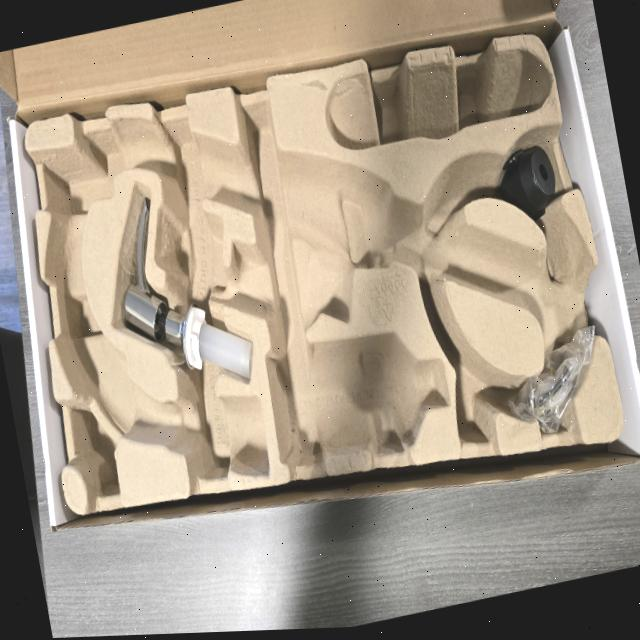1m: (47, 114, 605, 474)
2: (122, 198, 250, 384)
3m: (266, 331, 449, 464)
4m: (327, 47, 549, 147)
5: (498, 144, 554, 218)
6: (513, 324, 593, 437)
7m: (432, 311, 506, 443)
